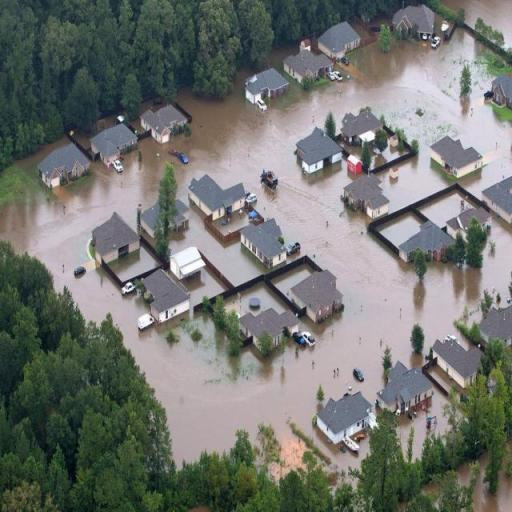flood: (0, 32, 512, 466), (88, 174, 352, 366)
house: (268, 260, 342, 326), (315, 386, 374, 454), (236, 307, 302, 358), (428, 333, 480, 395), (396, 216, 460, 266), (32, 134, 88, 190), (378, 360, 432, 418), (188, 172, 247, 224), (141, 266, 189, 328), (90, 208, 138, 266), (430, 130, 485, 180), (240, 216, 295, 266), (138, 96, 192, 146), (295, 124, 343, 180), (88, 116, 138, 168), (244, 64, 294, 112), (391, 2, 443, 48), (480, 160, 512, 228), (139, 198, 190, 240), (341, 176, 389, 218), (340, 110, 390, 148), (284, 50, 334, 86), (318, 19, 360, 60), (478, 302, 512, 348), (169, 243, 206, 285), (452, 204, 493, 240), (486, 72, 512, 114)
